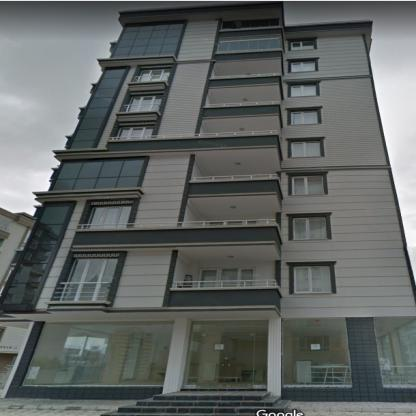door: (197, 334, 254, 389)
window: (22, 320, 174, 385), (2, 206, 70, 305), (181, 318, 267, 390), (282, 317, 350, 386), (70, 67, 125, 149), (50, 157, 146, 190), (374, 316, 414, 387), (58, 256, 118, 301), (111, 21, 183, 58), (87, 205, 133, 229), (199, 268, 254, 287), (294, 264, 331, 292), (216, 37, 279, 53), (291, 217, 327, 240), (291, 174, 325, 195), (127, 96, 162, 112), (117, 126, 154, 140), (292, 139, 320, 157), (290, 110, 318, 125), (136, 70, 169, 82), (291, 60, 317, 73), (291, 84, 317, 97), (290, 40, 315, 50)
